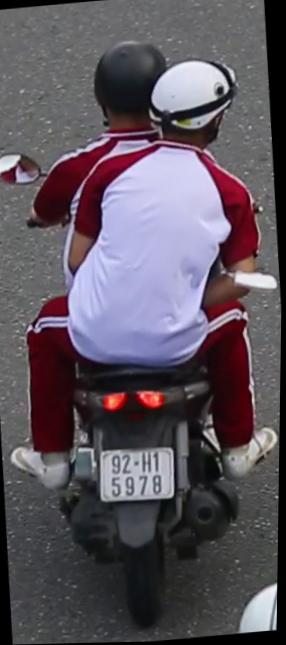LP: (98, 440, 178, 507)
helmet: (144, 52, 252, 176), (78, 29, 169, 155)
